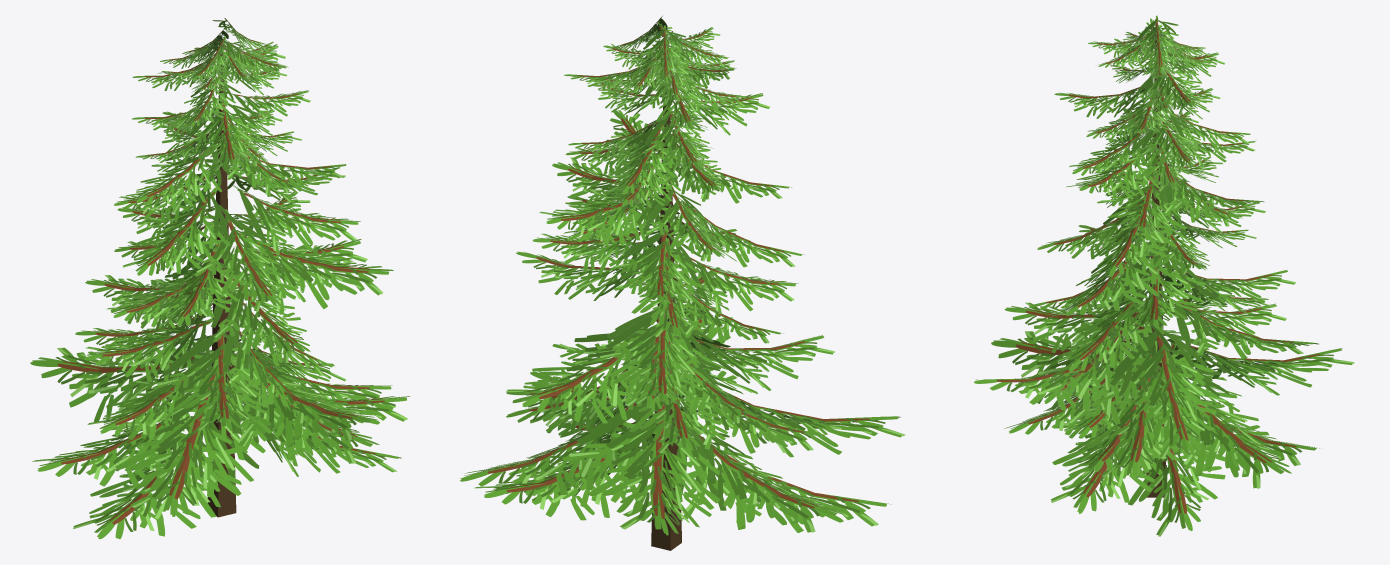
The model's file is pinetree.glb.
3 views of the same model, side by side, from view 1: azimuth 30°, elevation 25°; view 2: azimuth 150°, elevation 25°; view 3: azimuth 270°, elevation 25° (orthographic). The views are drawn at different scales.
Parts seen in each view (by area): view 1: tree.034, tree.040, tree.003, tree.008, tree.044, tree.048, tree.035, tree.016, tree.013, tree, tree.011, tree.047 (+36 smaller); view 2: tree.035, tree, tree.038, tree.041, tree.033, tree.001, tree.017, tree.034, tree.009, tree.020, tree.040, tree.046 (+34 smaller); view 3: tree.039, tree.033, tree.004, tree.036, tree.002, tree.008, tree.042, tree.035, tree.044, tree.047, tree.012, tree.038 (+33 smaller).
Boxes of the visible parts, x1=… form: tree.034: x1=103, y1=360, x2=265, y2=516; tree.040: x1=152, y1=324, x2=273, y2=430; tree.003: x1=73, y1=416, x2=259, y2=539; tree.008: x1=228, y1=355, x2=378, y2=447; tree.044: x1=239, y1=225, x2=393, y2=314; tree.048: x1=122, y1=187, x2=243, y2=275; tree.035: x1=30, y1=341, x2=205, y2=424; tree.016: x1=194, y1=209, x2=284, y2=311; tree.013: x1=211, y1=273, x2=310, y2=363; tree: x1=32, y1=405, x2=219, y2=487; tree.011: x1=84, y1=318, x2=213, y2=381; tree.047: x1=233, y1=185, x2=360, y2=254; tree.035: x1=562, y1=389, x2=726, y2=535; tree: x1=672, y1=432, x2=844, y2=532; tree.038: x1=506, y1=332, x2=652, y2=423; tree.041: x1=595, y1=301, x2=713, y2=405; tree.033: x1=460, y1=401, x2=653, y2=495; tree.001: x1=474, y1=438, x2=670, y2=520; tree.017: x1=609, y1=225, x2=701, y2=304; tree.034: x1=678, y1=383, x2=905, y2=457; tree.009: x1=607, y1=339, x2=724, y2=453; tree.020: x1=539, y1=186, x2=664, y2=245; tree.040: x1=681, y1=335, x2=834, y2=390; tree.046: x1=614, y1=238, x2=702, y2=338; tree.039: x1=1101, y1=319, x2=1217, y2=458; tree.033: x1=1144, y1=359, x2=1291, y2=488; tree.004: x1=1106, y1=399, x2=1225, y2=536; tree.036: x1=1087, y1=340, x2=1212, y2=477; tree.002: x1=1050, y1=401, x2=1181, y2=513; tree.008: x1=973, y1=339, x2=1148, y2=410; tree.042: x1=1057, y1=275, x2=1175, y2=371; tree.035: x1=1166, y1=338, x2=1354, y2=395; tree.044: x1=1050, y1=235, x2=1184, y2=317; tree.047: x1=1090, y1=180, x2=1193, y2=277; tree.012: x1=1099, y1=251, x2=1206, y2=333; tree.038: x1=1173, y1=300, x2=1318, y2=359.
Size of the model in its own units: 15.67 by 20.72 by 16.48.
Materials: 2 (1 with a texture image).
